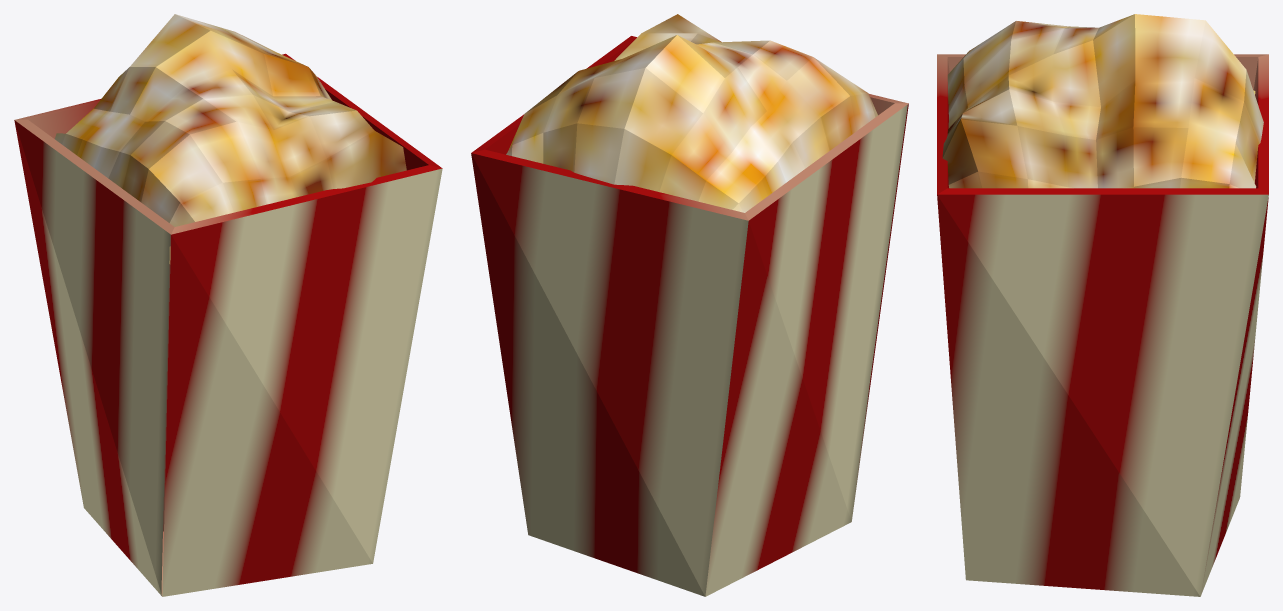
Rendered from popcorn.fbx.
3 renders of one model, left to right at view 1: azimuth 30°, elevation 25°; view 2: azimuth 150°, elevation 25°; view 3: azimuth 270°, elevation 25°, orthographic. The views are drawn at different scales.
Parts seen in each view (by area): view 1: Cube; view 2: Cube; view 3: Cube.
Part boxes in pixels (x1,y1,x2,y2): Cube: (14, 14, 442, 596); Cube: (471, 14, 908, 596); Cube: (937, 14, 1268, 596).
Bounding box in the file's own units: 0.1595 × 0.2777 × 0.1595.
1 material, 1 textured.
